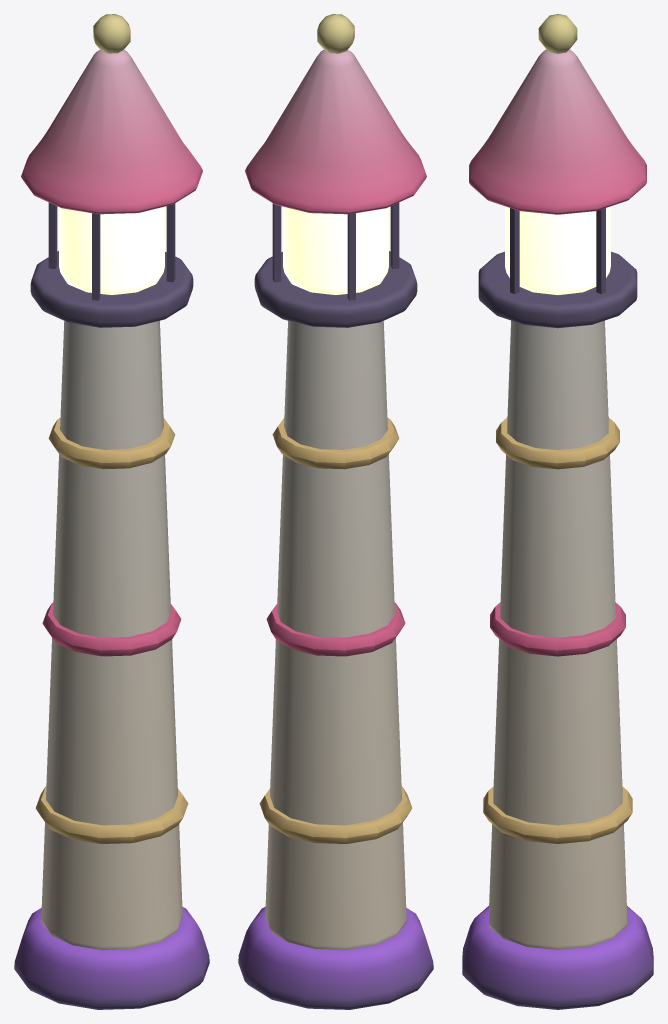
The model's file is beacon.glb.
3 renders of one model, left to right at view 1: azimuth 30°, elevation 25°; view 2: azimuth 150°, elevation 25°; view 3: azimuth 270°, elevation 25°, orthographic.
Visible parts, largest first — view 1: Body, Glow_FFE066; view 2: Body, Glow_FFE066; view 3: Body, Glow_FFE066.
Boxes of the visible parts, x1=… form: Body: x1=14, y1=14, x2=209, y2=1009; Glow_FFE066: x1=59, y1=206, x2=164, y2=294; Body: x1=238, y1=14, x2=433, y2=1009; Glow_FFE066: x1=283, y1=206, x2=388, y2=294; Body: x1=462, y1=14, x2=653, y2=1009; Glow_FFE066: x1=505, y1=206, x2=610, y2=294.
Size of the model in its own units: 4.81 by 25.9 by 4.69.
